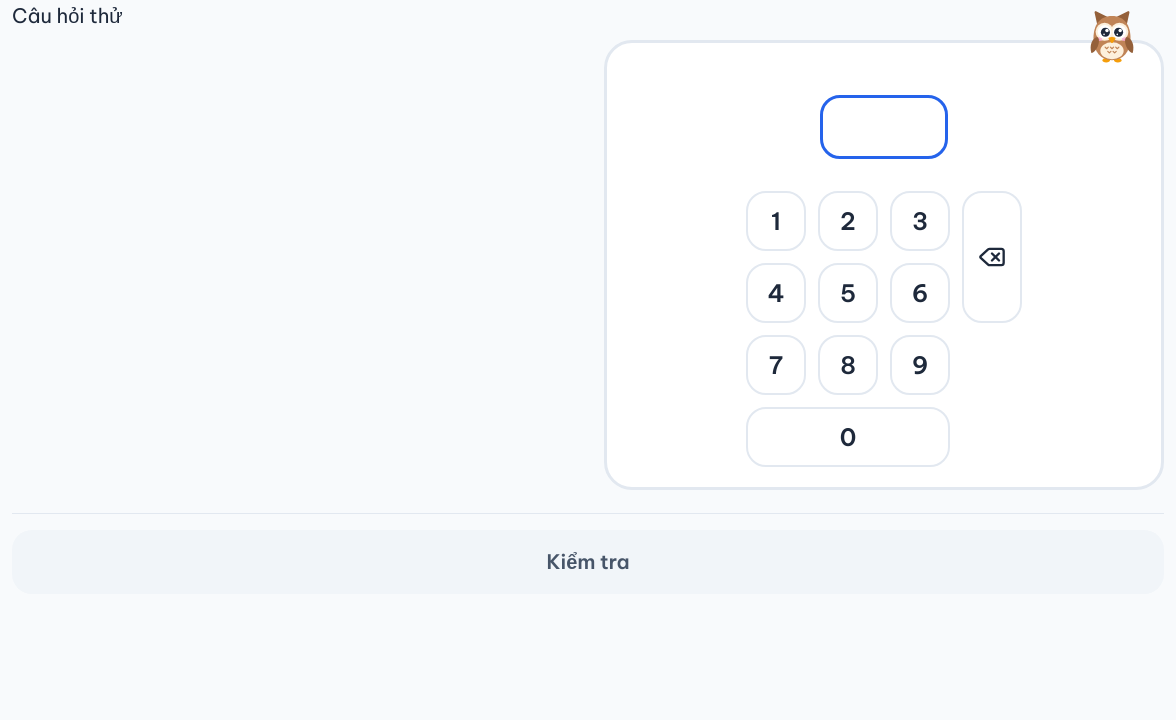
Test: NumericAnswer › accepts a plain value typed on the pad
expect the button "Kiểm tra" is disabled: met, box [12,530,1164,594]
Click the button "6" at point(920, 293), box [890,263,950,323]
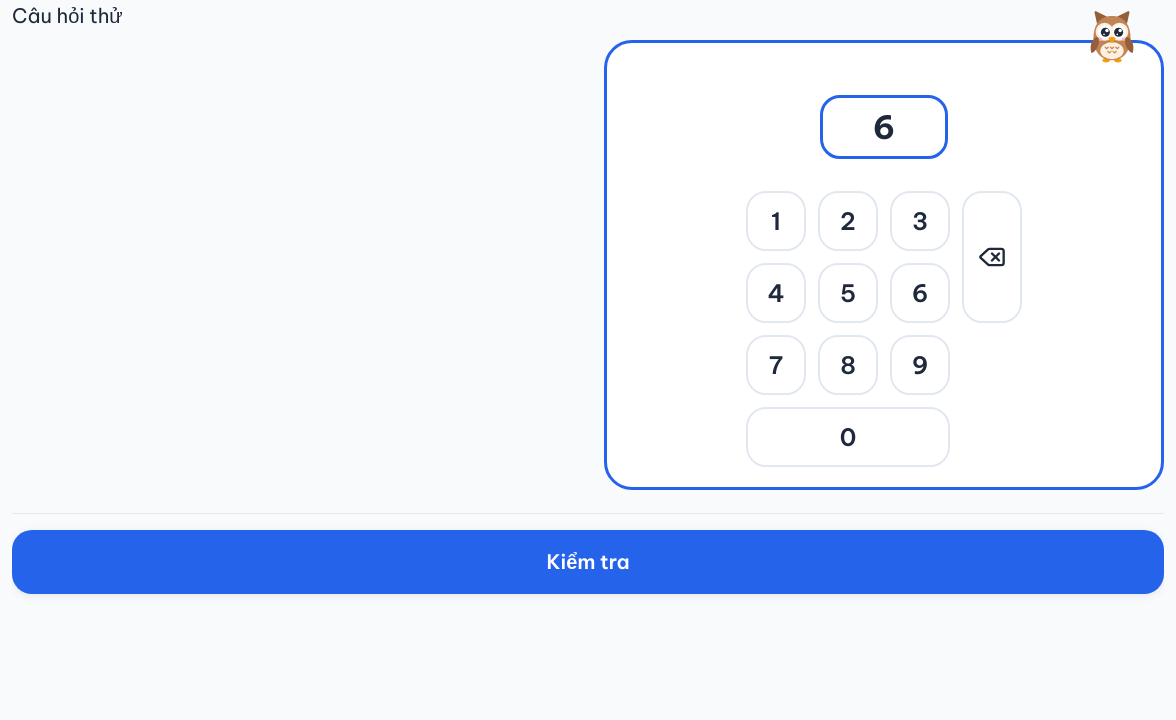
expect the 1st button "6" is shown: met, box [820,95,948,159]
Click the button "Kiểm tra" at point(588, 562), box [12,530,1164,594]
(page scrolled)
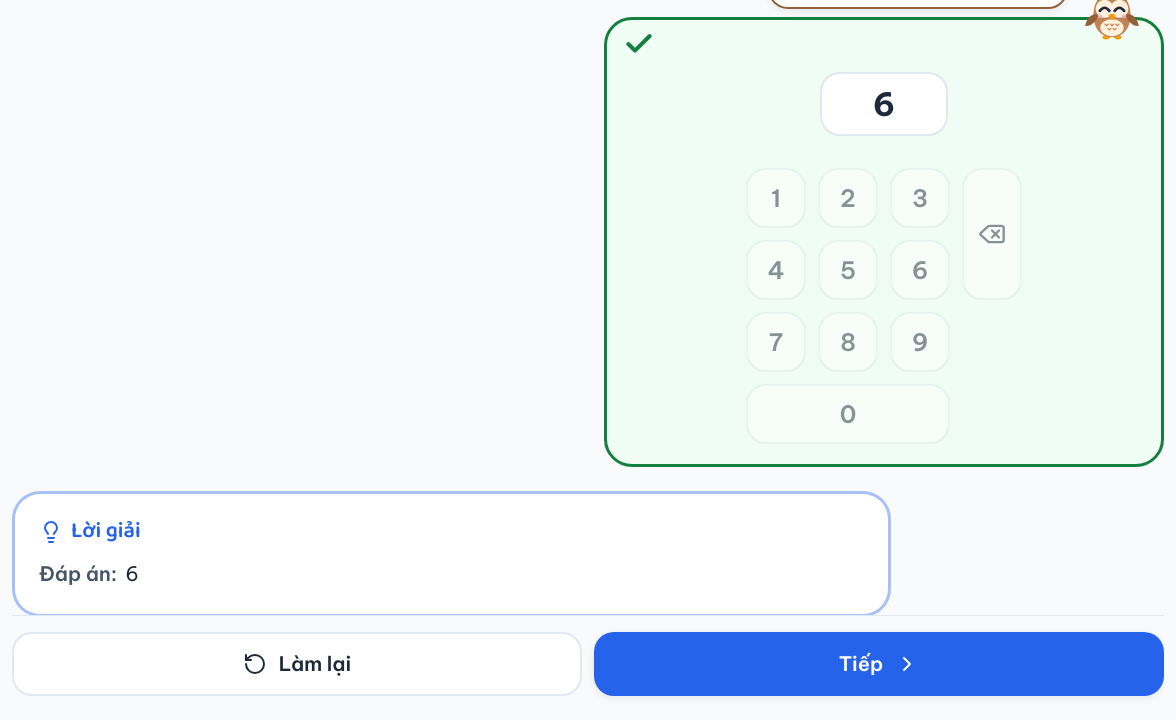
expect the button "1" is disabled: met, box [746,168,806,228]
